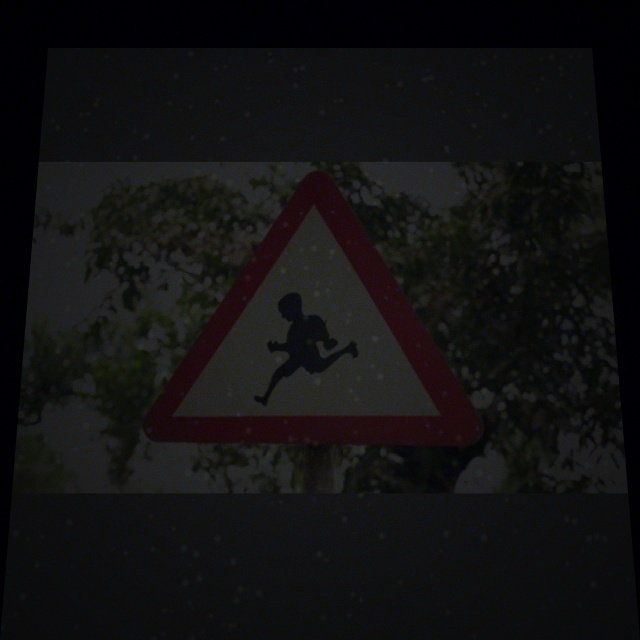School_Ahead: (155, 174, 480, 445)
